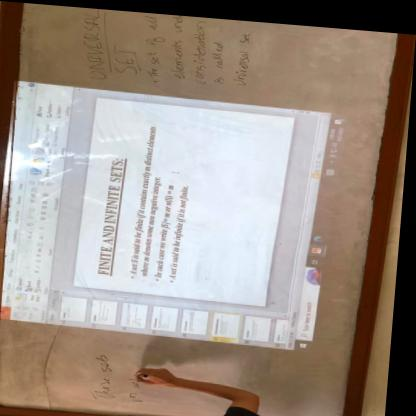Handwritten text: (72, 8, 112, 82), (138, 9, 167, 79), (229, 24, 259, 88), (95, 344, 124, 402), (188, 14, 212, 84), (167, 29, 194, 79), (207, 31, 232, 82), (108, 41, 142, 71), (128, 366, 151, 403)
Whiteboard: (0, 1, 398, 416)
